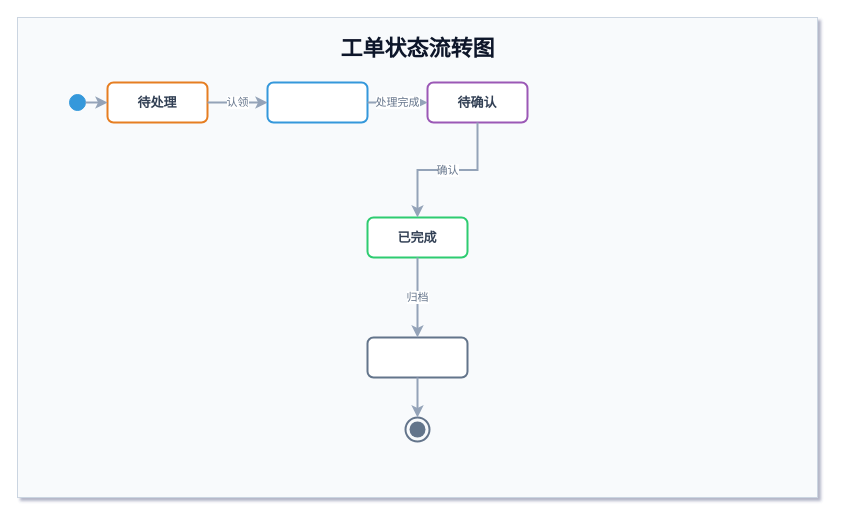
This 841x521 diagram has some shape labels left out. Each missing label, with the centre of its shape:
"处理中" belongs at point 317,102.
"已关闭" belongs at point 417,357.
